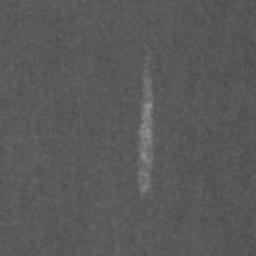White rust: (138, 50, 154, 194)
